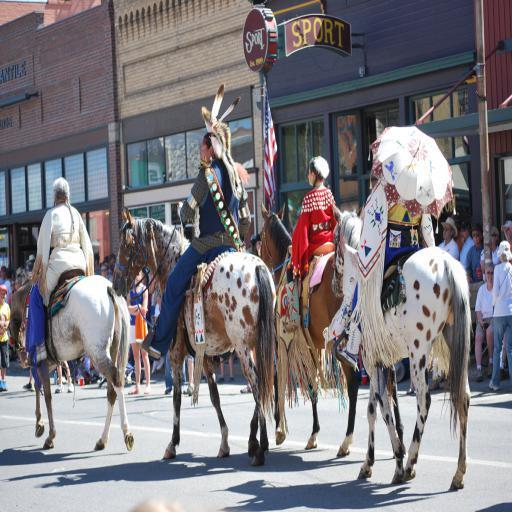horse: (112, 203, 276, 466), (330, 200, 472, 495), (257, 200, 362, 454), (6, 273, 134, 453)
